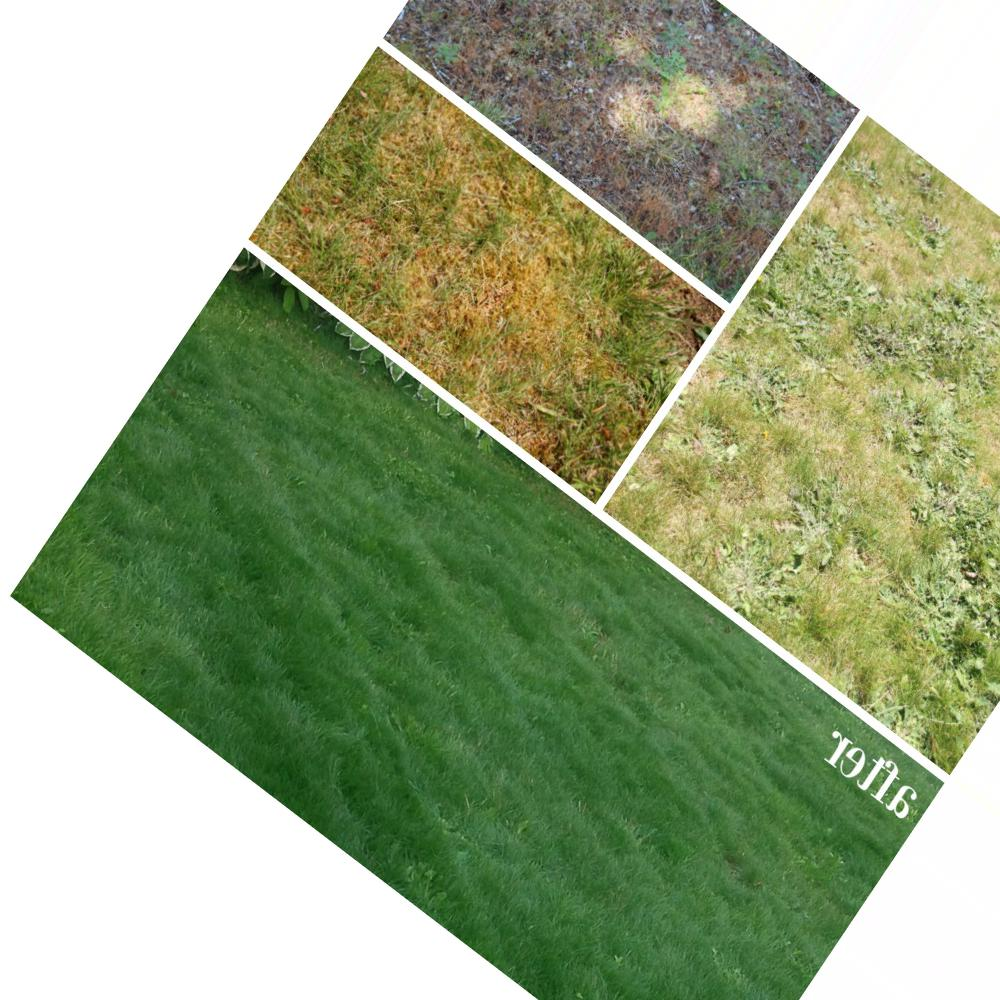patch: (773, 387, 898, 508), (460, 239, 573, 344), (871, 206, 947, 289), (619, 93, 711, 137)
